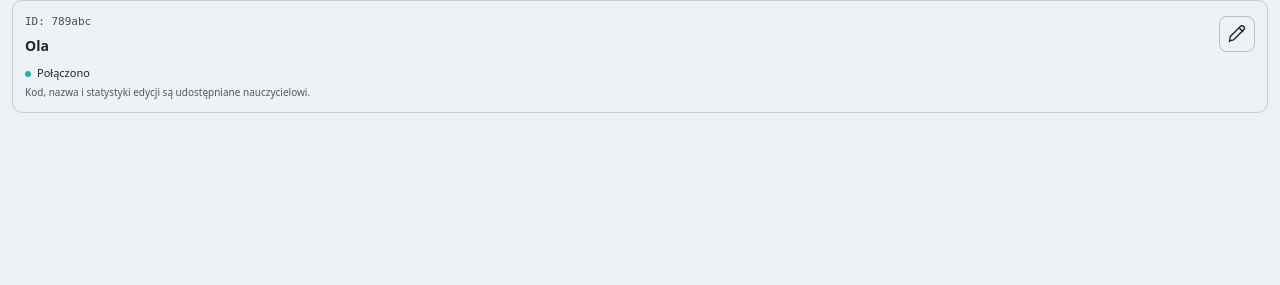
Test: shows ID and name, edits only after clicking the pencil and saves trimmed text
This screenshot has width=1280, height=285.
Expected: the text "Ola" is shown, top-left (25, 36), bottom-right (49, 55)
Click the button named "Edytuj nazwę ucznia": (1237, 34) top-left (1219, 16), bottom-right (1255, 52)
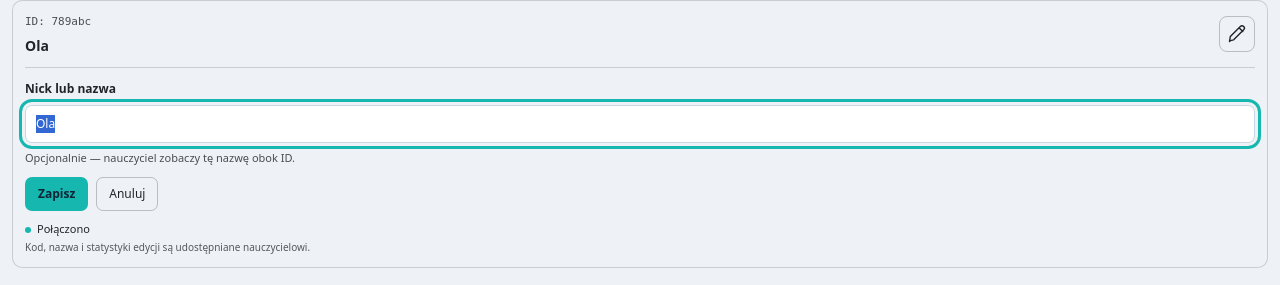
Replace the text in the field labelled "Nick lub nazwa" with "  Ada · 3A  ": (640, 124) top-left (25, 105), bottom-right (1255, 143)
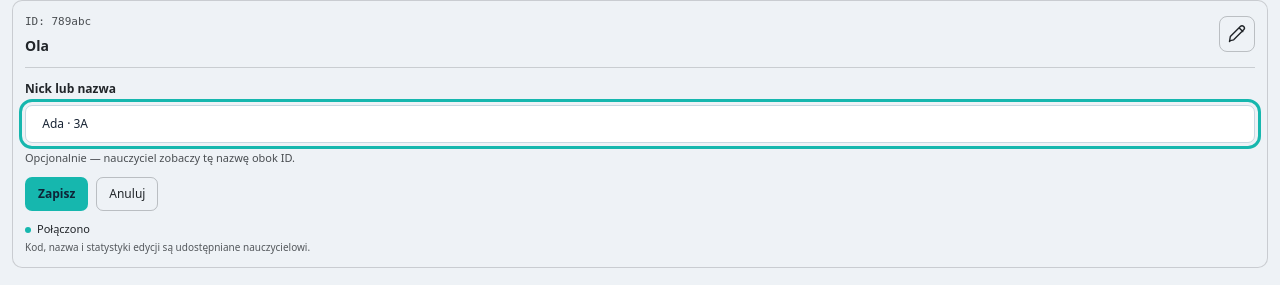
Submit the form "Nick lub nazwa", box top-left (25, 67), bottom-right (1255, 211)
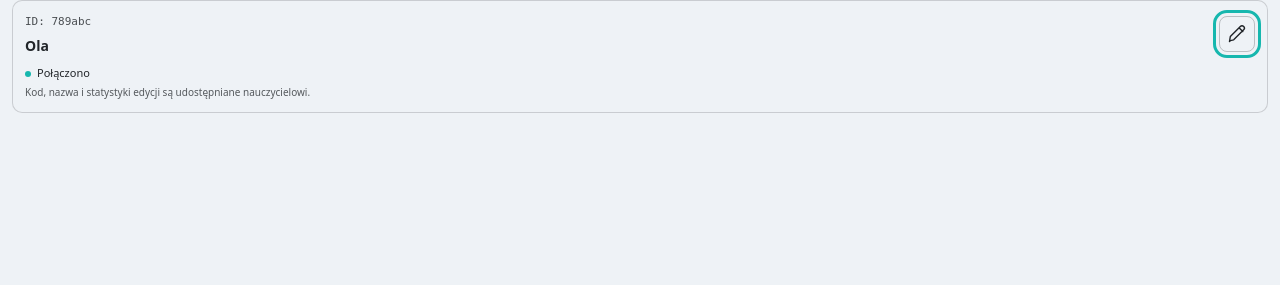
Result: the field is gone
